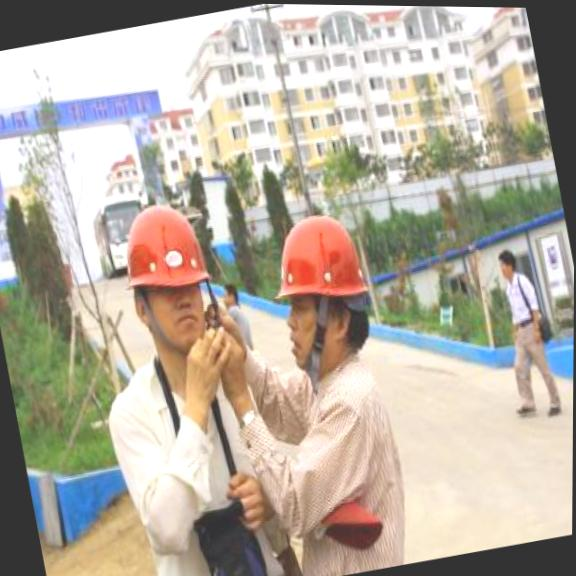no_safety_vest: (93, 342, 285, 576), (275, 348, 421, 576)
